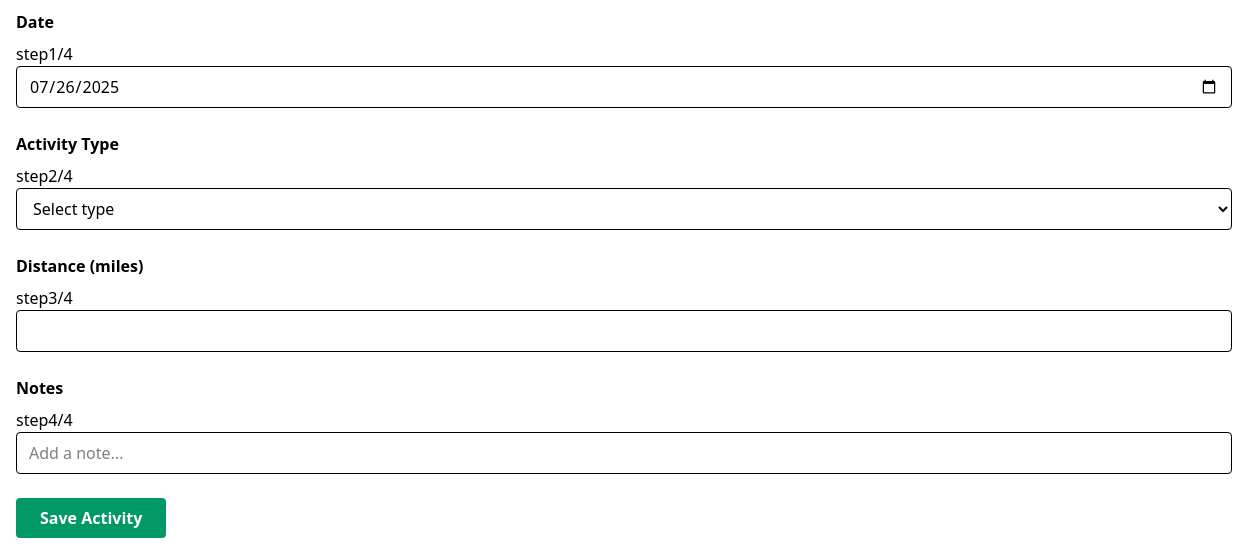
Test case: CreateTransLog › shows loading state during submission
Click the button "Save Activity" at [91, 518], box x1=16 y1=498 x2=166 y2=538
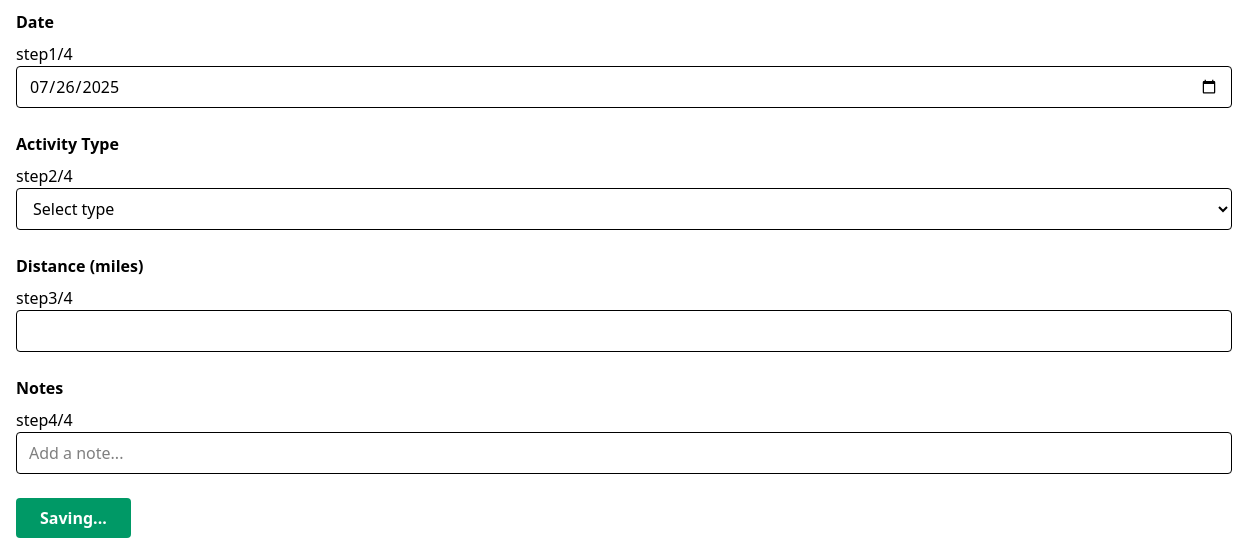
Now the button is disabled, box x1=16 y1=498 x2=131 y2=538
